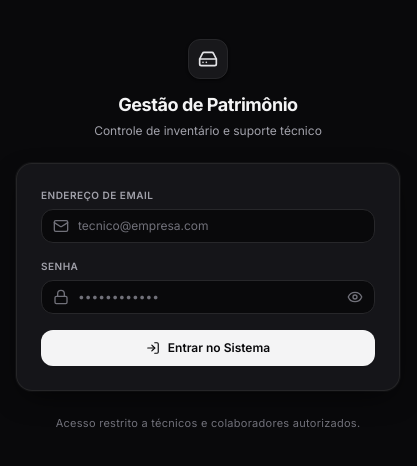
Tela de Login (LoginPage Component & BDD Scenarios) › Cenário 2: Exibe validações visuais ao tentar submeter formulário em branco
Click the button "Entrar no Sistema" at (208, 348), box [41, 330, 375, 366]
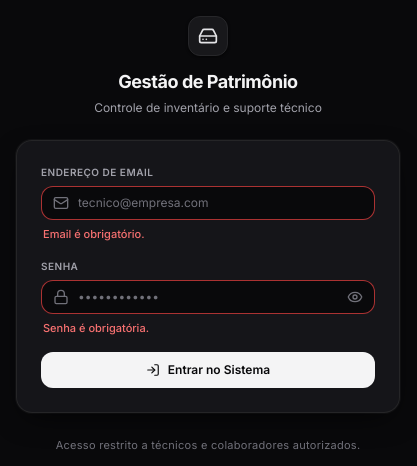
Now the text "Email é obrigatório." is shown, box [43, 227, 144, 241]
Now the text "Senha é obrigatória." is shown, box [43, 321, 149, 335]
